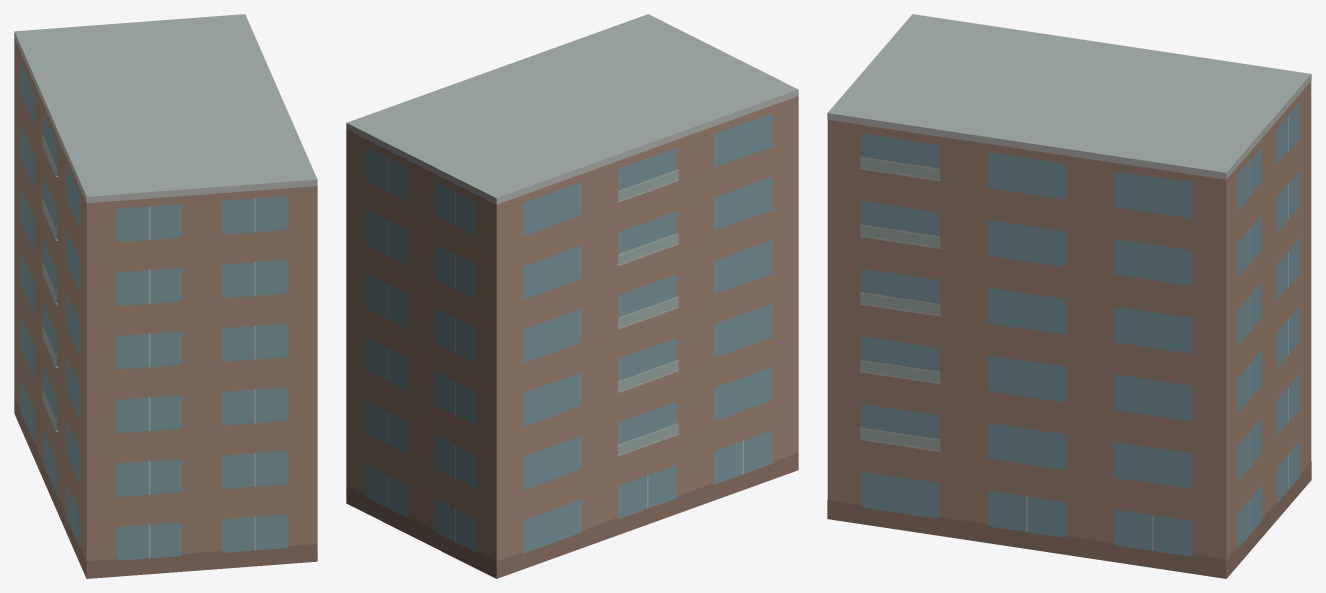
Rendered from survey-upis-32883398.glb.
The picture shows the model from 3 angles, left to right: view 1: azimuth 30°, elevation 25°; view 2: azimuth 150°, elevation 25°; view 3: azimuth 270°, elevation 25°; orthographic projection. The views are drawn at different scales.
Parts seen in each view (by area): view 1: survey-upis-32883398.tmp; view 2: survey-upis-32883398.tmp; view 3: survey-upis-32883398.tmp.
Boxes of the visible parts, x1,y1,x2,y2 form: survey-upis-32883398.tmp: [14, 14, 317, 578]; survey-upis-32883398.tmp: [346, 14, 798, 578]; survey-upis-32883398.tmp: [827, 14, 1311, 578].
Size of the model in its own units: 12.22 by 14.55 by 15.73.
